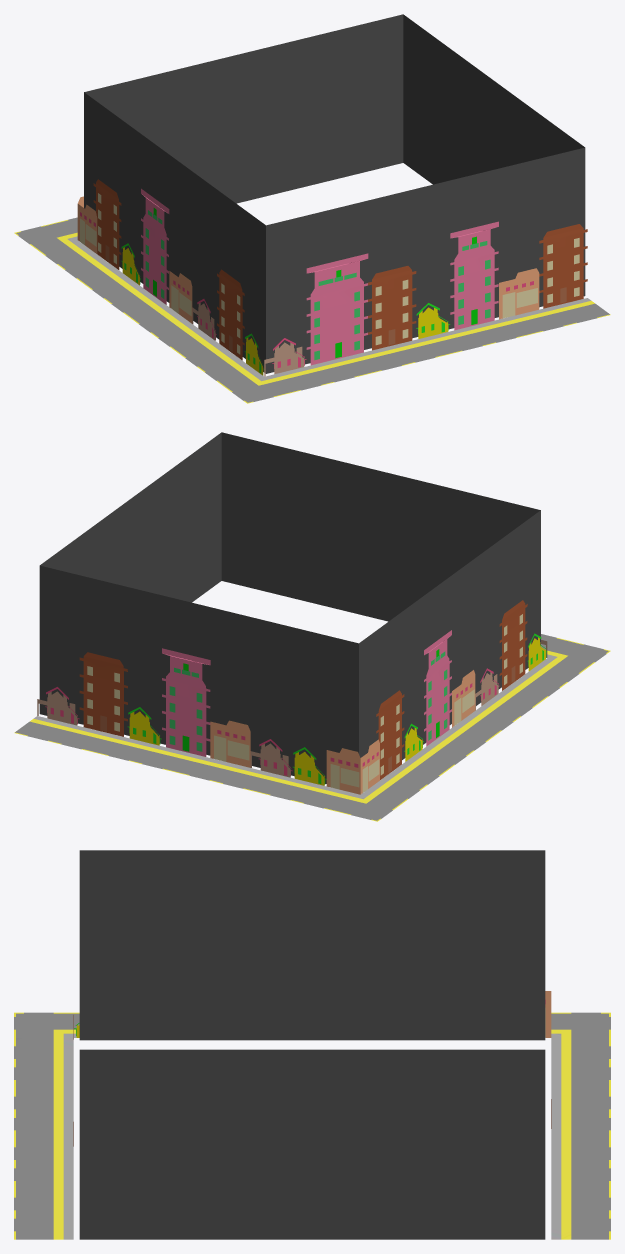
File: OldCityBlock.fbx
3 renders of one model, top to bottom at view 1: azimuth 30°, elevation 25°; view 2: azimuth 150°, elevation 25°; view 3: azimuth 270°, elevation 25°, orthographic. The views are drawn at different scales.
Parts seen in each view (by area): view 1: citytiles.004; view 2: citytiles.004; view 3: citytiles.004.
Boxes of the visible parts, bbox=[...] form: citytiles.004: bbox=[14, 14, 610, 403]; citytiles.004: bbox=[14, 432, 610, 821]; citytiles.004: bbox=[14, 850, 610, 1239].
Bounding box in the file's own units: 9018 × 3523 × 10020.
